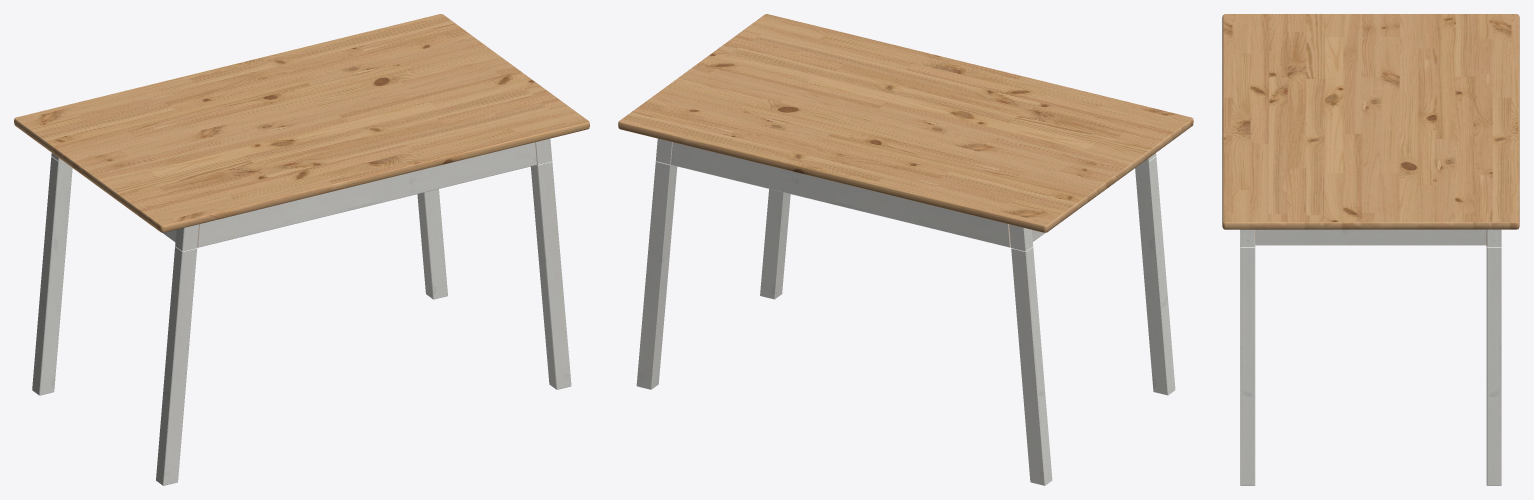
3 renders of one model, left to right at view 1: azimuth 30°, elevation 25°; view 2: azimuth 150°, elevation 25°; view 3: azimuth 270°, elevation 25°, orthographic.
Parts seen in each view (by area): view 1: model; view 2: model; view 3: model.
Boxes of the visible parts, left/top/right/bottom form: model: left=14, top=14, right=589, bottom=485; model: left=618, top=14, right=1193, bottom=485; model: left=1222, top=14, right=1519, bottom=485.
Bounding box in the file's own units: 1.25 × 0.75 × 0.7503.
1 material, 1 textured.
